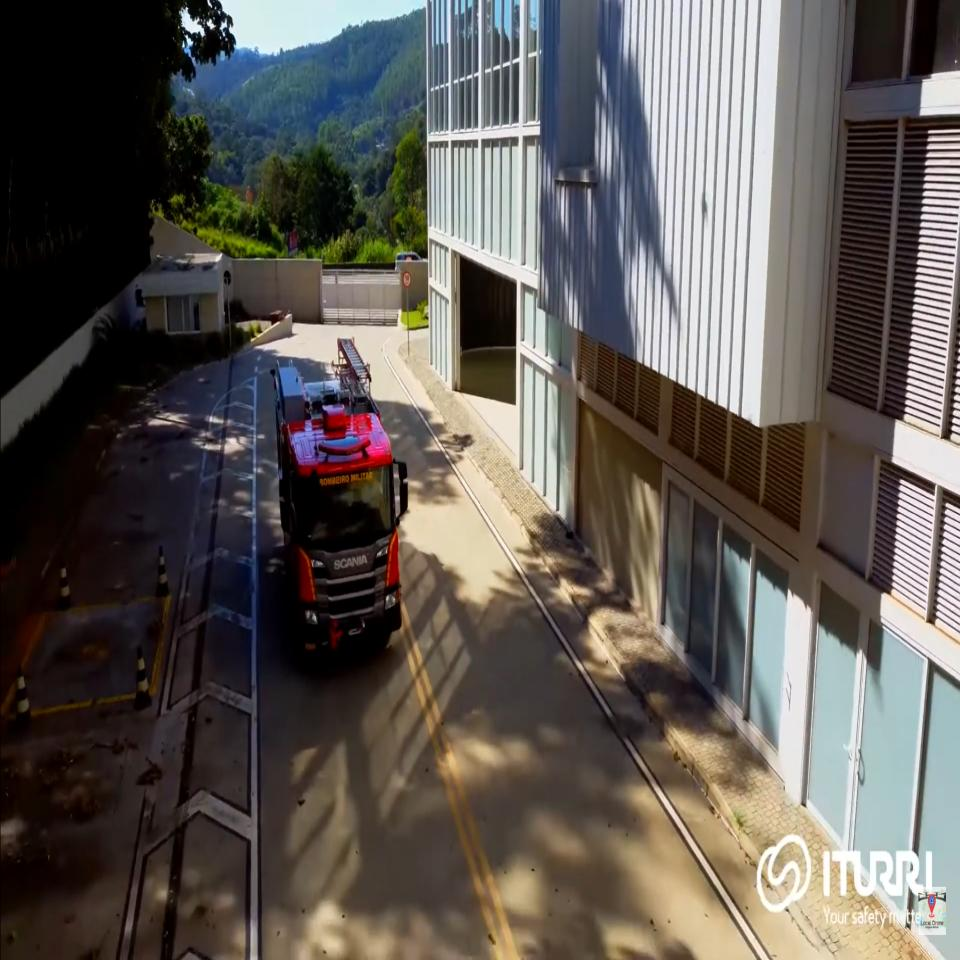viatura: (268, 335, 411, 670)
